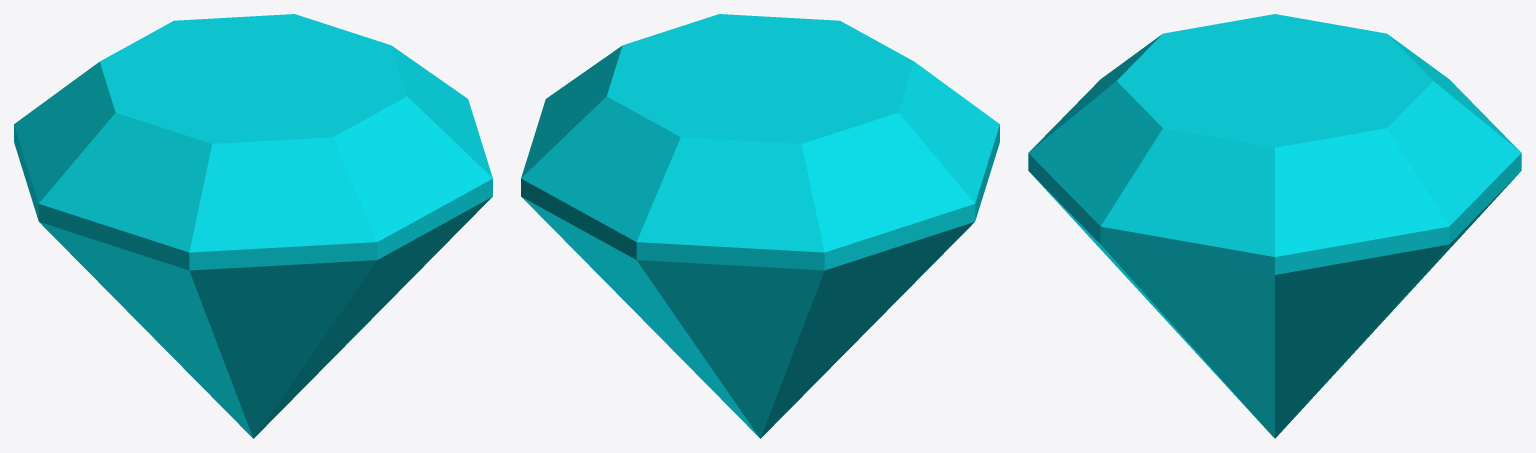
The model's file is Gem2.fbx.
3 renders of one model, left to right at view 1: azimuth 30°, elevation 25°; view 2: azimuth 150°, elevation 25°; view 3: azimuth 270°, elevation 25°, orthographic.
Parts seen in each view (by area): view 1: Gem2; view 2: Gem2; view 3: Gem2.
Boxes of the visible parts, x1,y1,x2,y2 form: Gem2: [14, 14, 492, 438]; Gem2: [521, 14, 999, 438]; Gem2: [1028, 14, 1521, 438].
Size of the model in its own units: 1.44 by 1.15 by 1.44.
